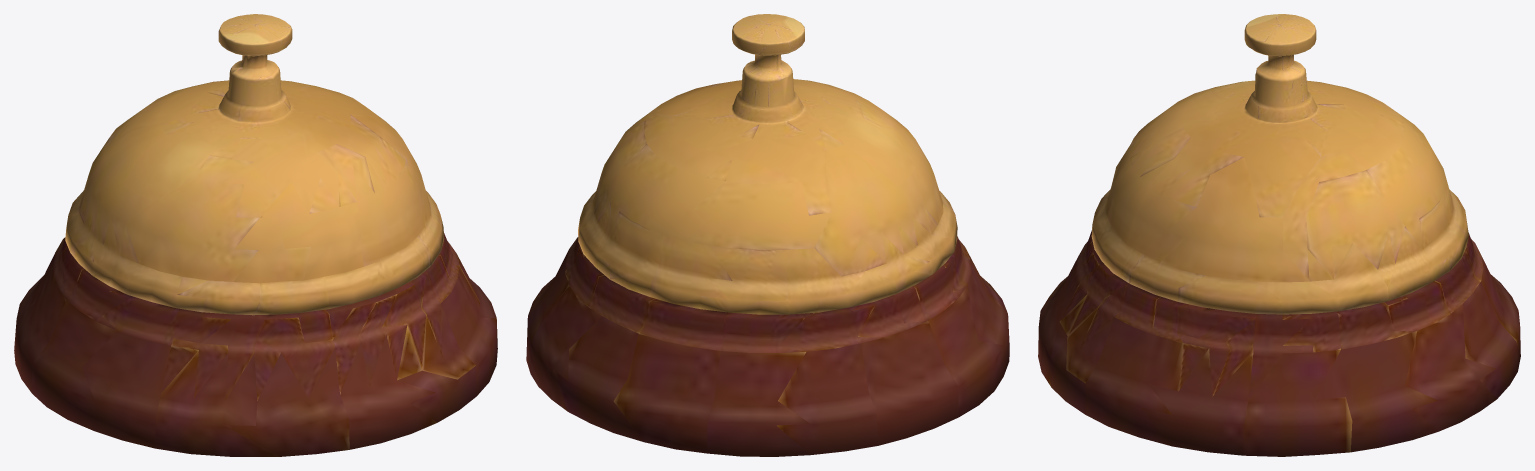
Rendered from item-deskBell.glb.
3 views of the same model, side by side, from view 1: azimuth 30°, elevation 25°; view 2: azimuth 150°, elevation 25°; view 3: azimuth 270°, elevation 25° (orthographic).
Bounding box in the file's own units: 0.9551 × 0.7275 × 0.9536.
Materials: 1 (1 with a texture image).
